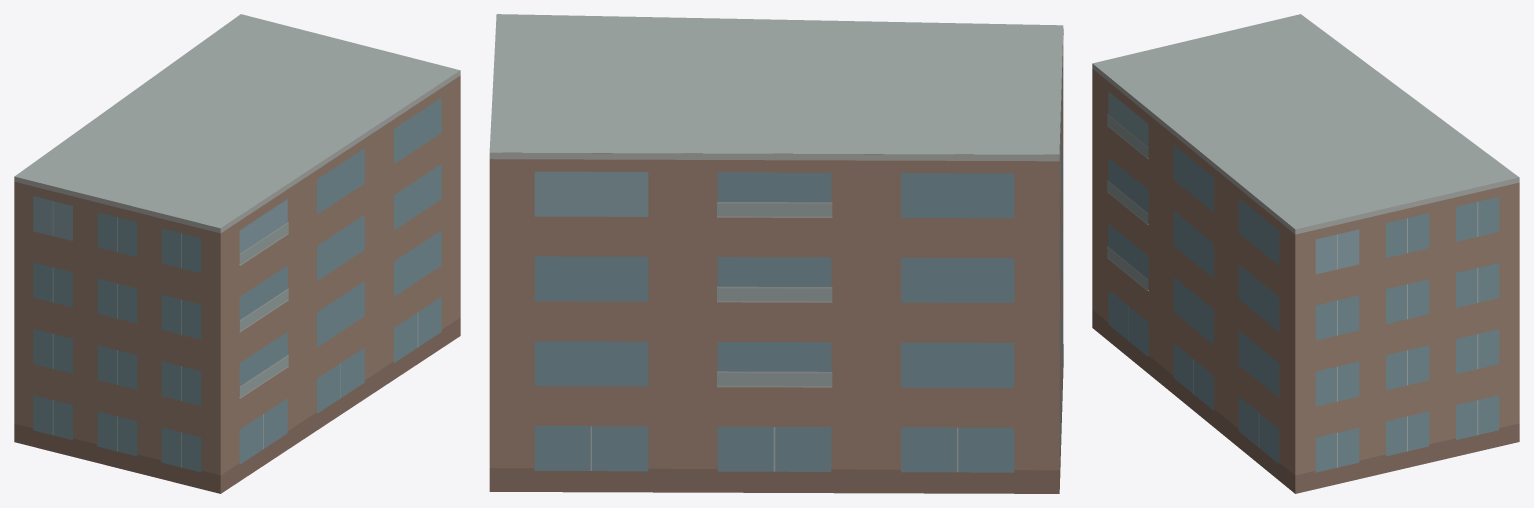
Rendered from survey-upis-32708143.glb.
3 views of the same model, side by side, from view 1: azimuth 30°, elevation 25°; view 2: azimuth 150°, elevation 25°; view 3: azimuth 270°, elevation 25° (orthographic). The views are drawn at different scales.
Parts seen in each view (by area): view 1: survey-upis-32708143.tmp; view 2: survey-upis-32708143.tmp; view 3: survey-upis-32708143.tmp.
Part boxes in pixels (left/top/right/bottom): survey-upis-32708143.tmp: left=14, top=14, right=460, bottom=493; survey-upis-32708143.tmp: left=489, top=14, right=1063, bottom=493; survey-upis-32708143.tmp: left=1092, top=14, right=1519, bottom=493.
Bounding box in the file's own units: 22.37 × 12.79 × 18.74.
